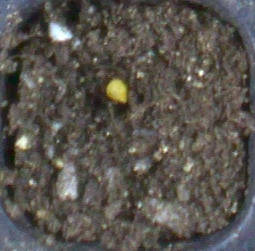pepper seed: (40, 26, 169, 131)
